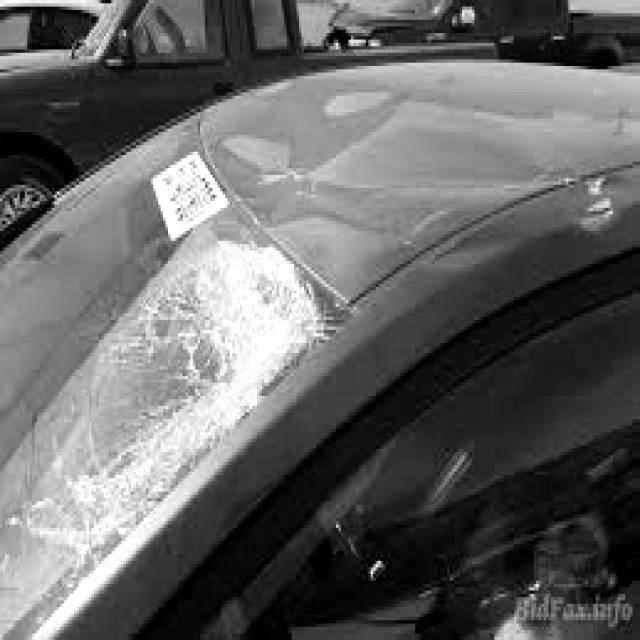Front-windscreen-damage: (5, 234, 342, 596)
roof-dent: (244, 62, 640, 238)
